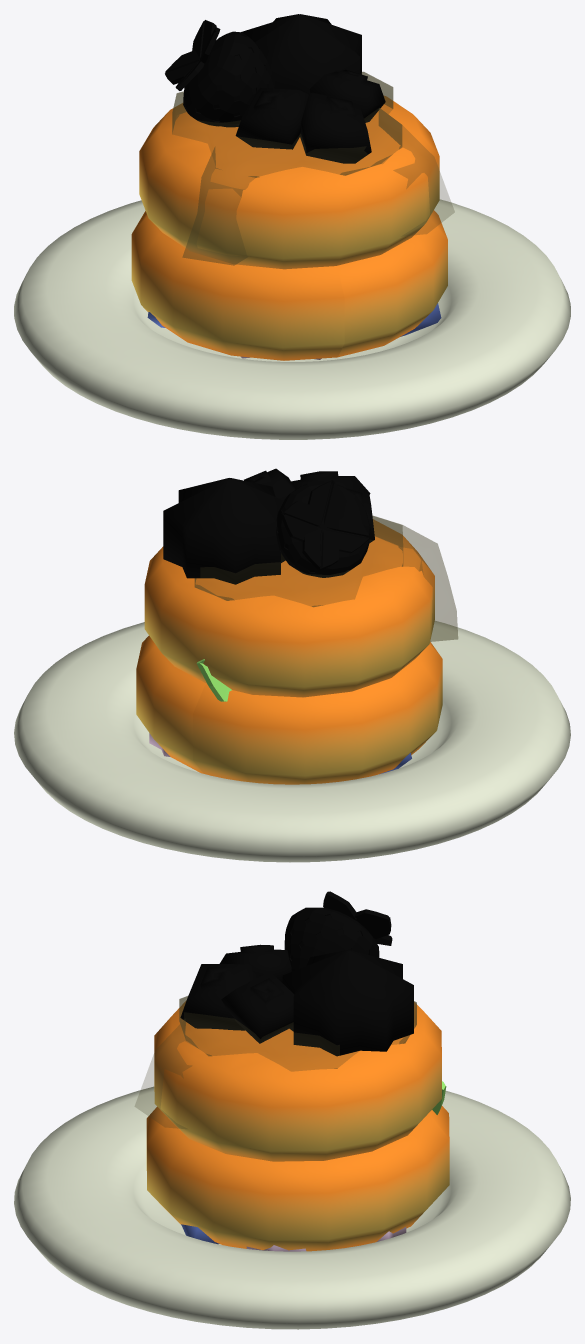
File: pancake_assets.glb
3 views of the same model, one above another, from view 1: azimuth 30°, elevation 25°; view 2: azimuth 150°, elevation 25°; view 3: azimuth 270°, elevation 25° (orthographic).
Parts seen in each view (by area): view 1: WholePancake, Plate, Pancake Bottom; view 2: WholePancake, Plate, Pancake Bottom, Strawberry; view 3: Plate, WholePancake, Pancake Bottom.
Part boxes in pixels (<box>): WholePancake: <box>131,14,454,360</box>; Plate: <box>14,199,570,439</box>; Pancake Bottom: <box>337,210,447,357</box>; WholePancake: <box>144,468,457,784</box>; Plate: <box>14,621,570,862</box>; Pancake Bottom: <box>136,636,206,773</box>; Strawberry: <box>196,659,231,701</box>; Plate: <box>14,1086,570,1329</box>; WholePancake: <box>135,891,449,1161</box>; Pancake Bottom: <box>146,1107,449,1251</box>.
Size of the model in its own units: 4.18 by 2.53 by 4.18.
